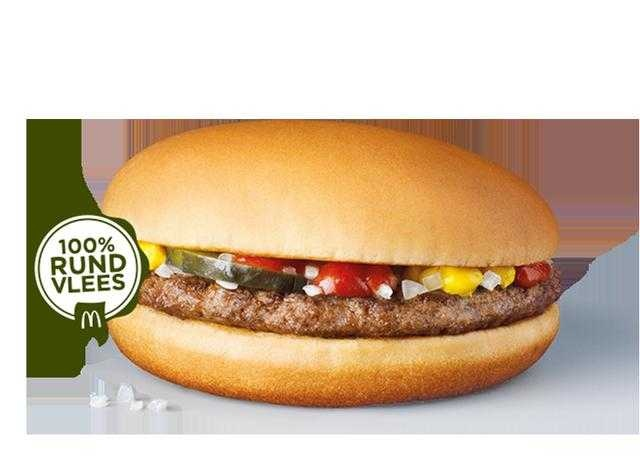hamburger: (96, 125, 591, 400)
